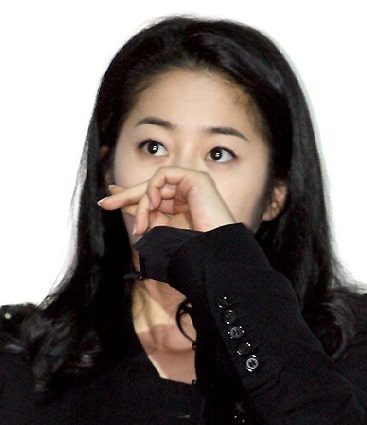face: (117, 68, 263, 273)
